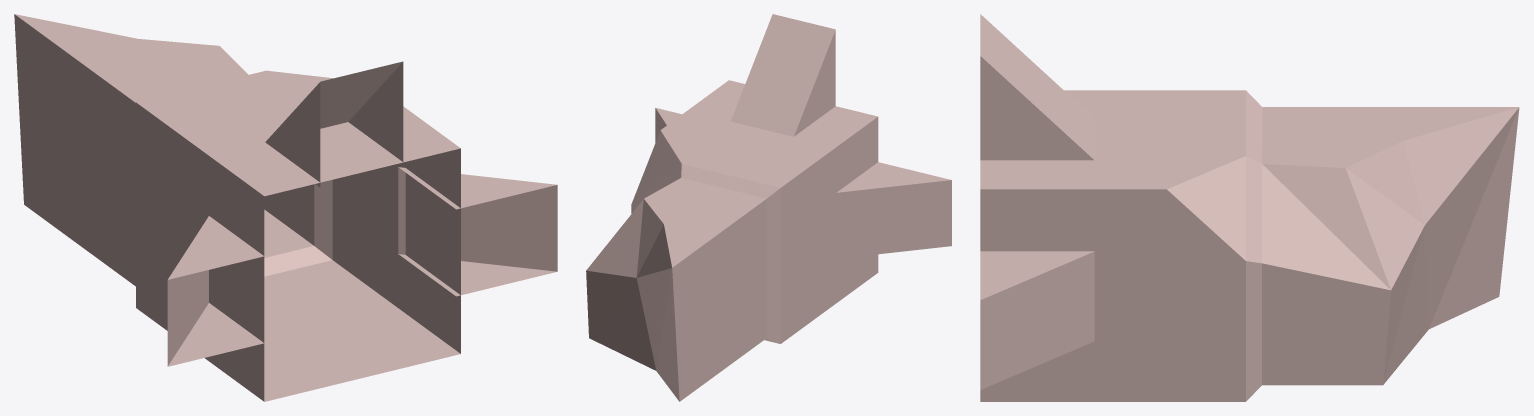
3 views of the same model, side by side, from view 1: azimuth 30°, elevation 25°; view 2: azimuth 150°, elevation 25°; view 3: azimuth 270°, elevation 25° (orthographic). The views are drawn at different scales.
Parts seen in each view (by area): view 1: Object30; view 2: Object30; view 3: Object30.
Part boxes in pixels (x1,y1,x2,y2): Object30: [14, 14, 557, 401]; Object30: [586, 14, 951, 401]; Object30: [980, 14, 1519, 401].
Size of the model in its own units: 27200 by 20433 by 31480.
